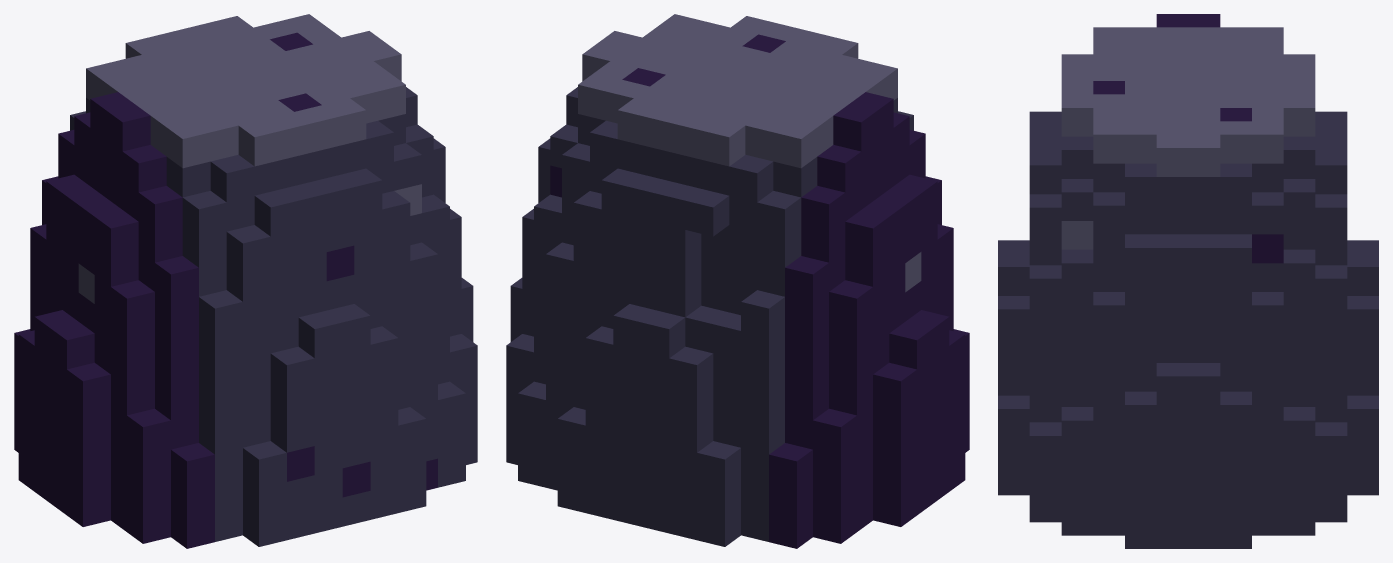
File: boulder.obj
3 renders of one model, left to right at view 1: azimuth 30°, elevation 25°; view 2: azimuth 150°, elevation 25°; view 3: azimuth 270°, elevation 25°, orthographic.
Visible parts, largest first — view 1: boulder; view 2: boulder; view 3: boulder.
Boxes of the visible parts, bbox=[...] form: boulder: bbox=[14, 14, 477, 548]; boulder: bbox=[506, 14, 969, 548]; boulder: bbox=[998, 14, 1378, 548].
Bounding box in the file's own units: 0.875 × 0.8125 × 0.75.
Materials: 1 (1 with a texture image).
